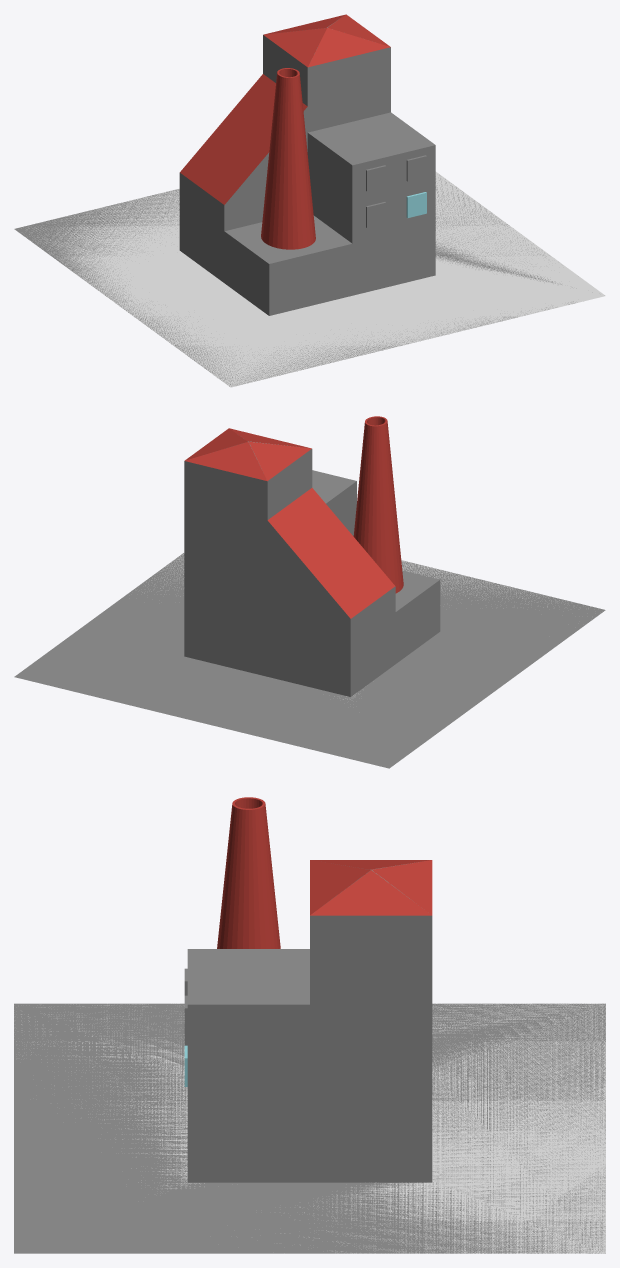
Rendered from Industrial2.fbx.
3 views of the same model, one above another, from view 1: azimuth 30°, elevation 25°; view 2: azimuth 150°, elevation 25°; view 3: azimuth 270°, elevation 25° (orthographic). The views are drawn at different scales.
Parts seen in each view (by area): view 1: Cube, Plane; view 2: Cube, Plane; view 3: Cube, Plane.
Part boxes in pixels (x1,y1,x2,y2): Cube: (14, 14, 592, 386); Plane: (21, 171, 605, 387); Cube: (14, 416, 605, 768); Plane: (142, 553, 590, 699); Cube: (14, 797, 605, 1253); Plane: (16, 1003, 605, 1253).
Bounding box in the file's own units: 5000 × 2757 × 5000.
